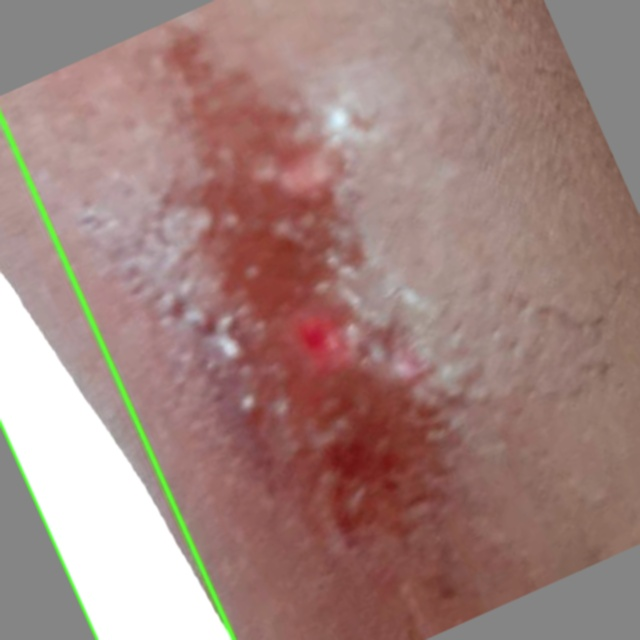Tinea Corporis: (0, 116, 233, 639)
